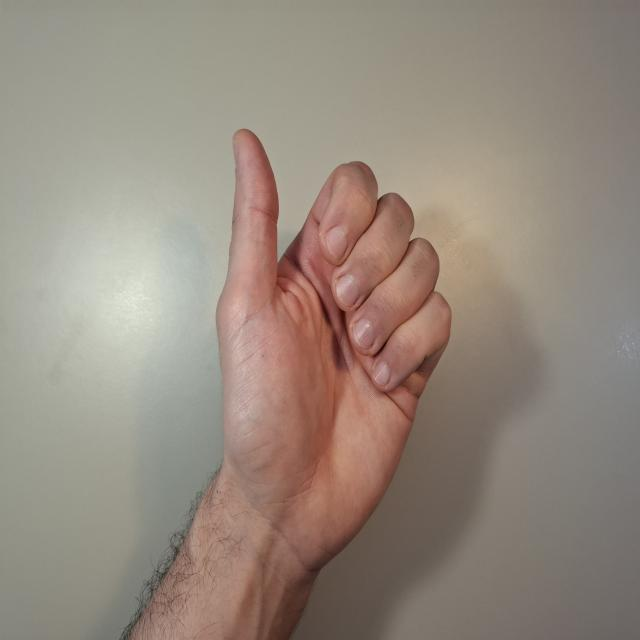glove_off: (212, 125, 453, 577)
